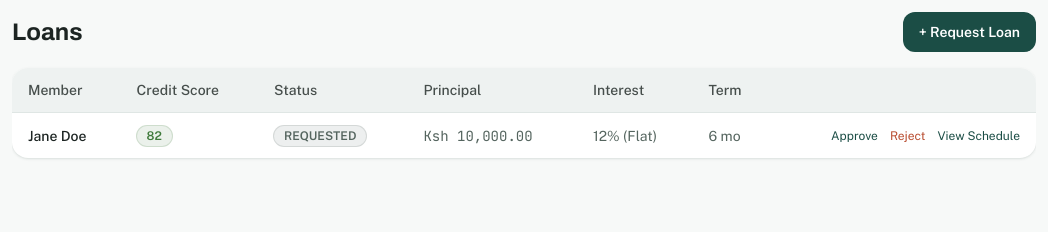
Test: LoansPage › lets a manager reject a requested loan
This screenshot has width=1048, height=232.
Expected: the text "Jane Doe" is shown, x1=28 y1=128 x2=86 y2=144
Click the button "Reject" at (908, 136), box x1=890 y1=128 x2=926 y2=144
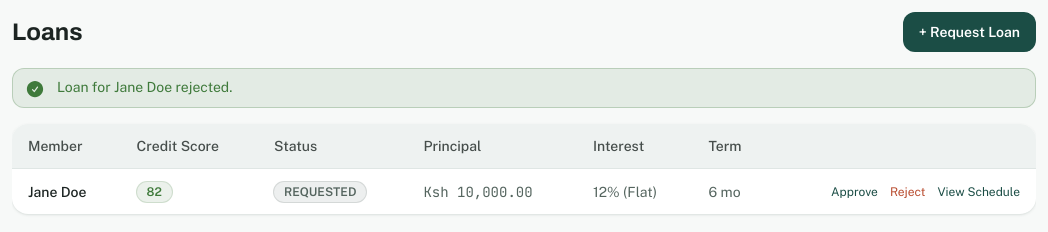
Now the text "Loan for Jane Doe rejected." is shown, box x1=57 y1=79 x2=232 y2=95
